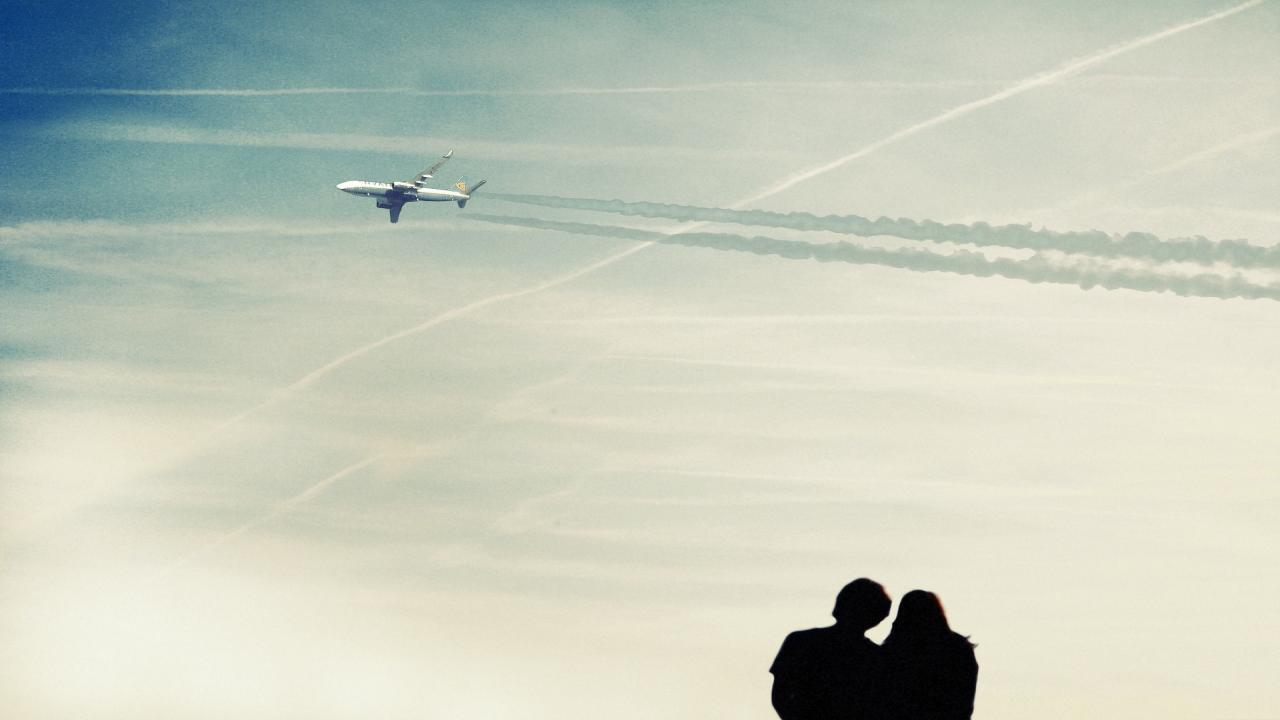Airplane: (330, 145, 497, 229)
